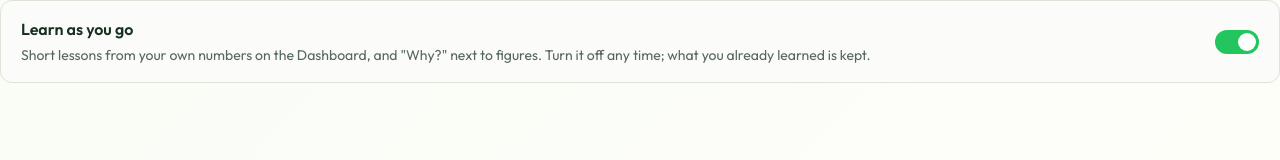
Scenario: LearningSwitch › turning it off saves false and refreshes the cached user
Click the switch.
click(1237, 42)  # box [1215, 20, 1259, 64]
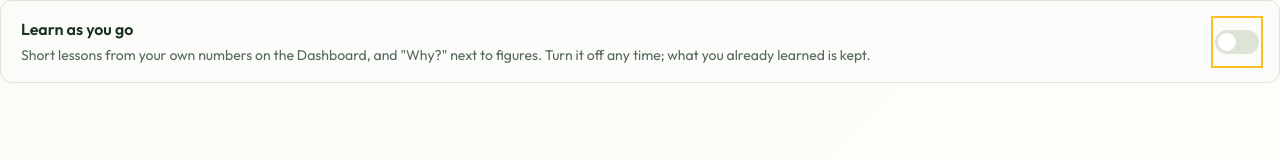
Result: the switch is not checked at [1215, 20, 1259, 64]
